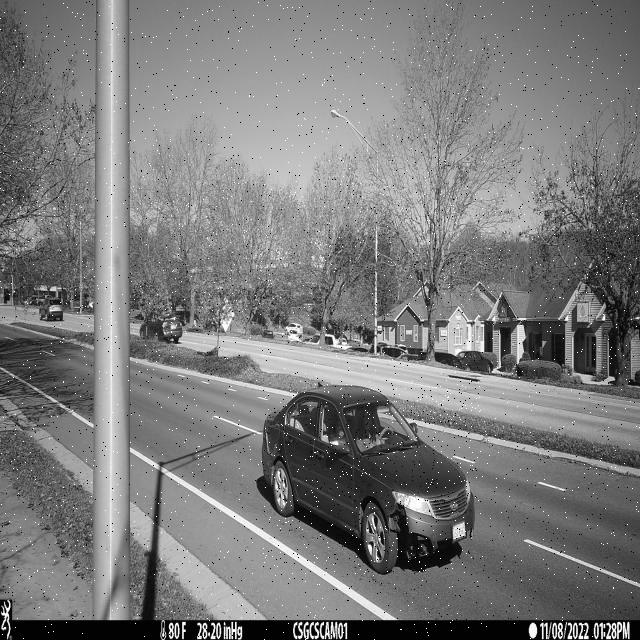Sedan: (263, 384, 477, 575)
